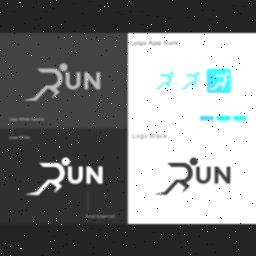n: (83, 156, 105, 188)
u: (64, 69, 84, 93)
